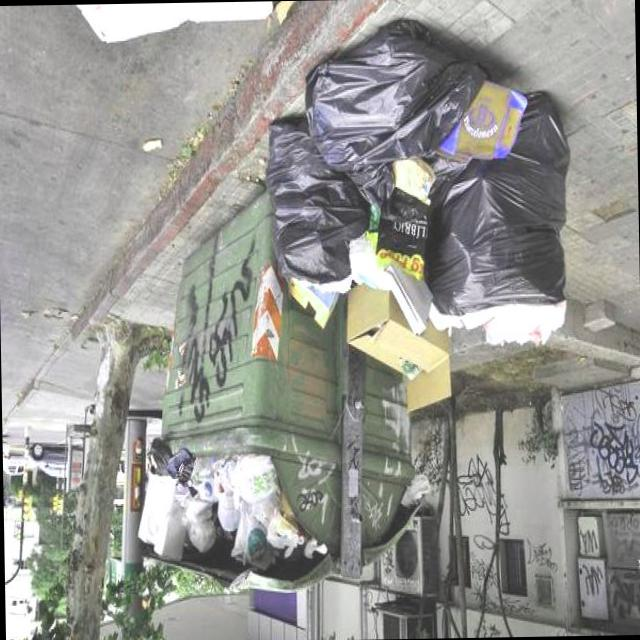high trash: (268, 20, 570, 410)
less trash: (76, 1, 273, 42), (275, 1, 294, 23), (142, 138, 162, 152)
